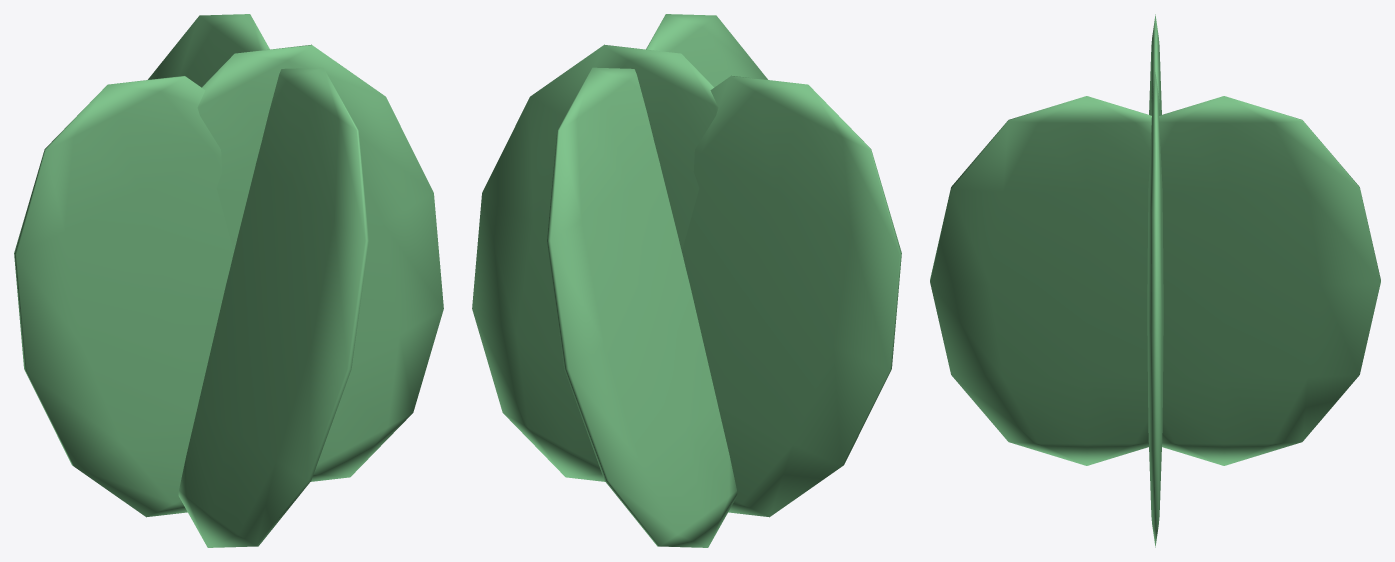
File: env_jungle_giant_leaf.glb
3 views of the same model, side by side, from view 1: azimuth 30°, elevation 25°; view 2: azimuth 150°, elevation 25°; view 3: azimuth 270°, elevation 25° (orthographic). The views are drawn at different scales.
Visible parts, largest first — view 1: ball; view 2: ball; view 3: ball.
Part boxes in pixels (x1=…): ball: x1=14, y1=14, x2=443, y2=547; ball: x1=472, y1=14, x2=901, y2=547; ball: x1=930, y1=14, x2=1380, y2=547.
Size of the model in its own units: 1.68 by 1.7 by 1.64.
